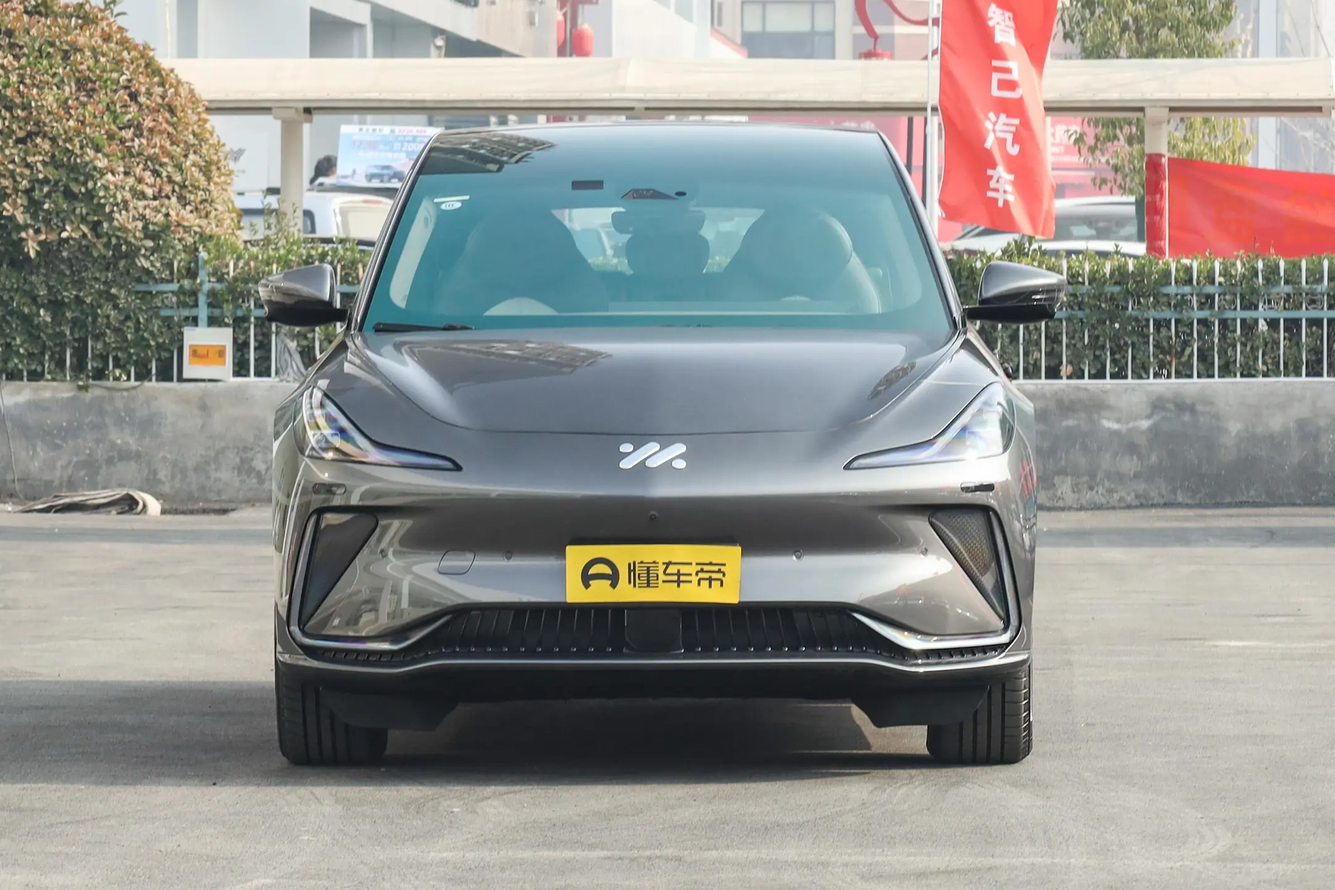IM: (619, 443, 686, 469)
